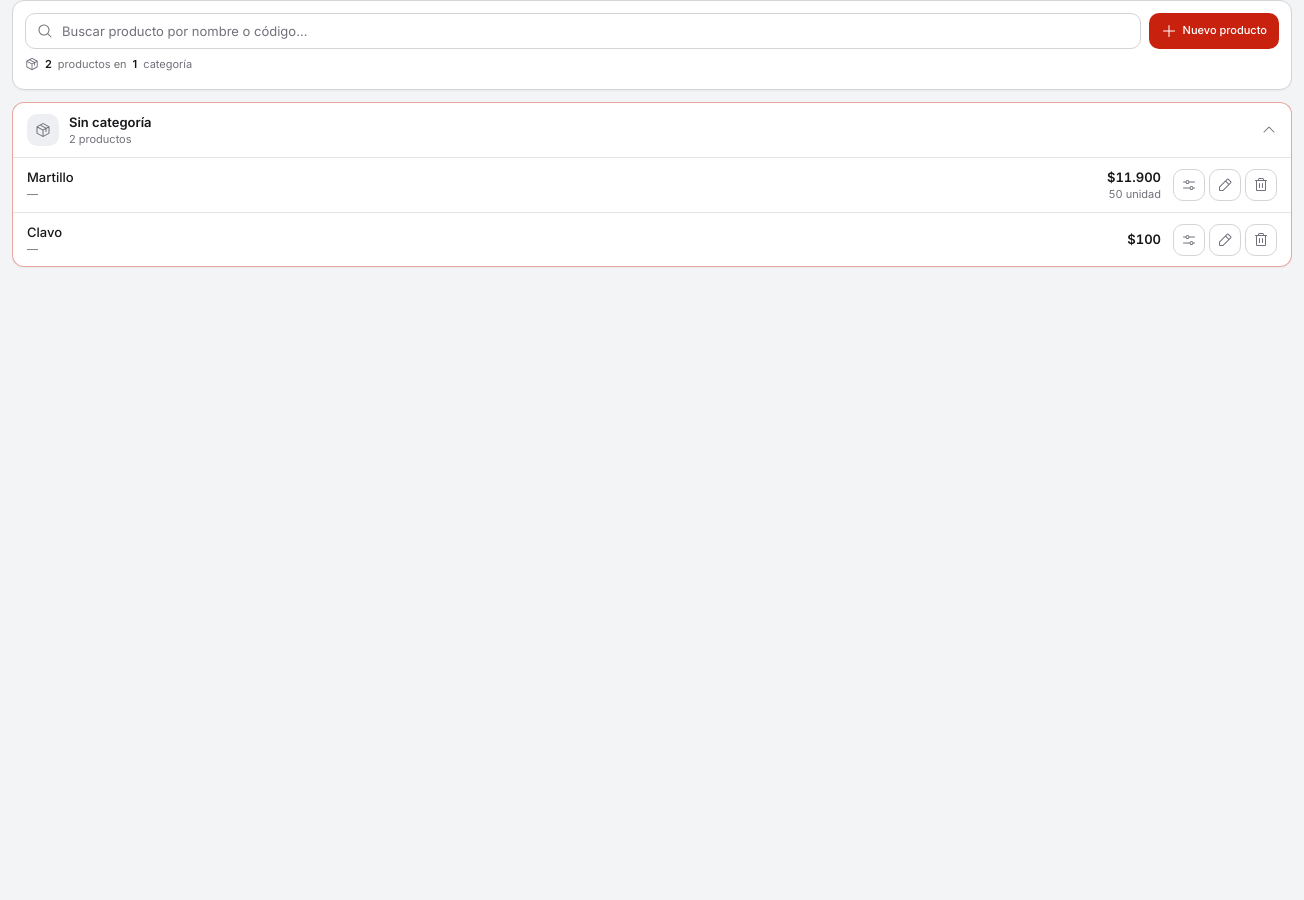
Test: TabInventario — construcción (consumibles/repuestos) › el formulario oculta escalonado, fracciones y precio especial; el precio se relabela a "Precio"
The image size is (1304, 900).
Expected: the text "Martillo" is shown, 27,168 -> 74,187
Click the button "Nuevo producto".
click(1214, 31)  # box 1149,13 -> 1279,49
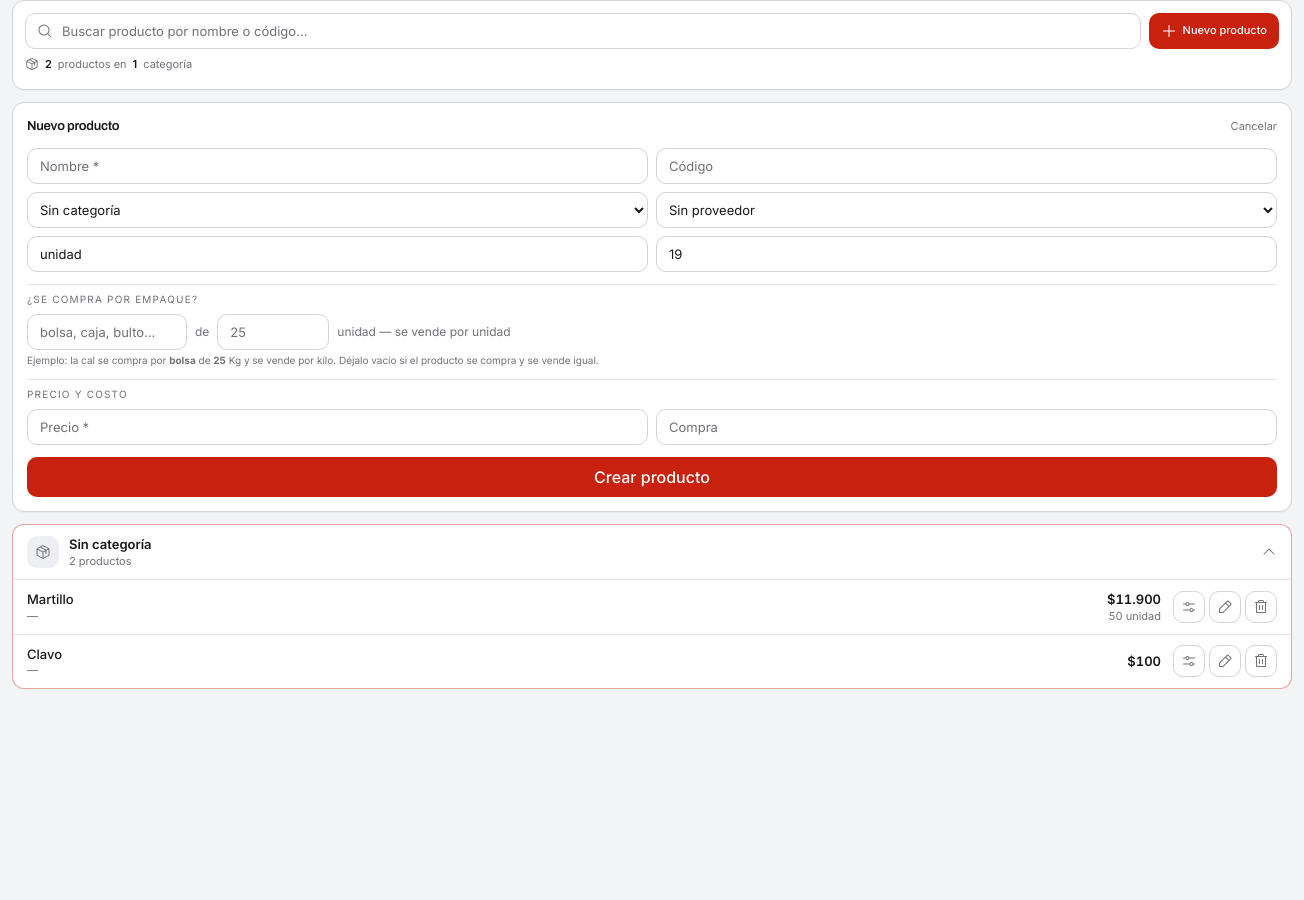
Expected: the number field labelled "Precio" is shown, 27,409 -> 648,445
Expected: the number field named "Precio de compra" is shown, 656,409 -> 1277,445
